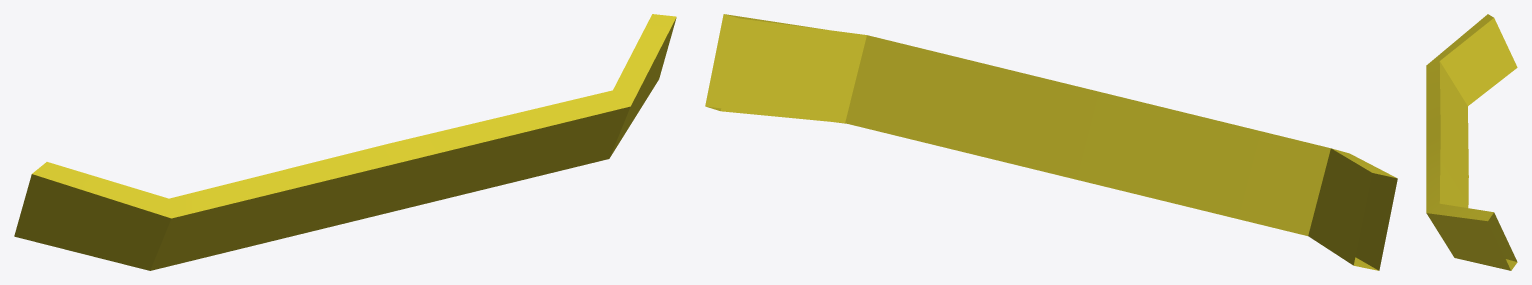
The picture shows the model from 3 angles, left to right: view 1: azimuth 30°, elevation 25°; view 2: azimuth 150°, elevation 25°; view 3: azimuth 270°, elevation 25°; orthographic projection. The views are drawn at different scales.
Parts seen in each view (by area): view 1: teeth_280; view 2: teeth_280; view 3: teeth_280.
Boxes of the visible parts, bbox=[...] form: teeth_280: bbox=[14, 14, 676, 270]; teeth_280: bbox=[705, 14, 1397, 270]; teeth_280: bbox=[1426, 14, 1517, 270].
Bounding box in the file's own units: 3.32 × 0.5173 × 0.6186.
